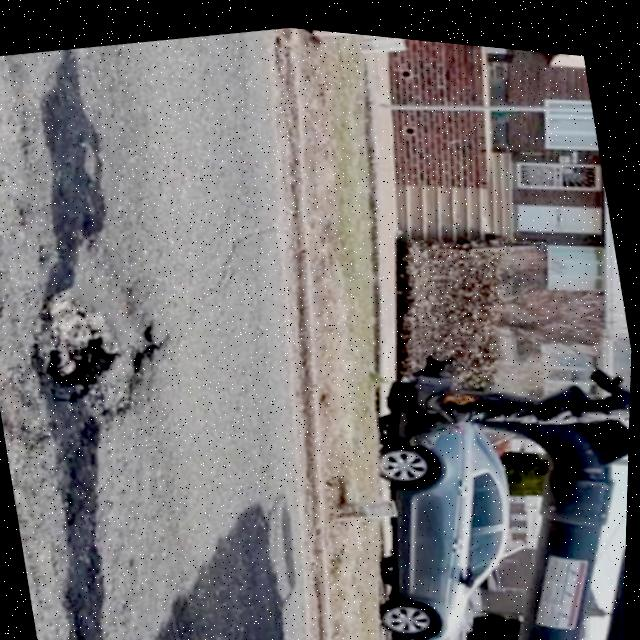Pothole: (12, 239, 194, 453)
